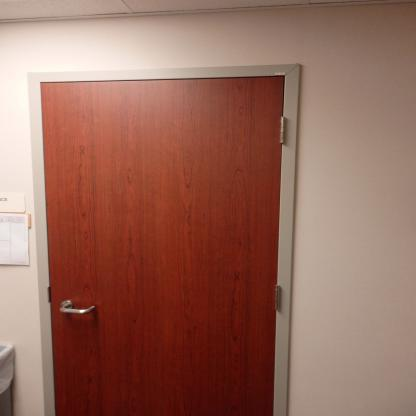door: (46, 77, 288, 410)
hinged: (279, 115, 287, 144), (274, 284, 282, 312)
lever: (58, 302, 99, 318)
